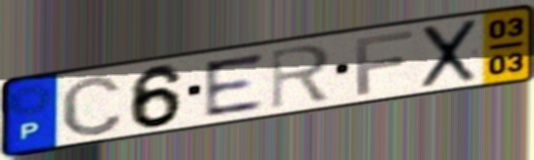6: (125, 61, 189, 131)
C: (58, 72, 126, 138)
E: (200, 50, 267, 120)
F: (353, 28, 417, 98)
R: (269, 41, 335, 111)
X: (418, 15, 482, 91)
